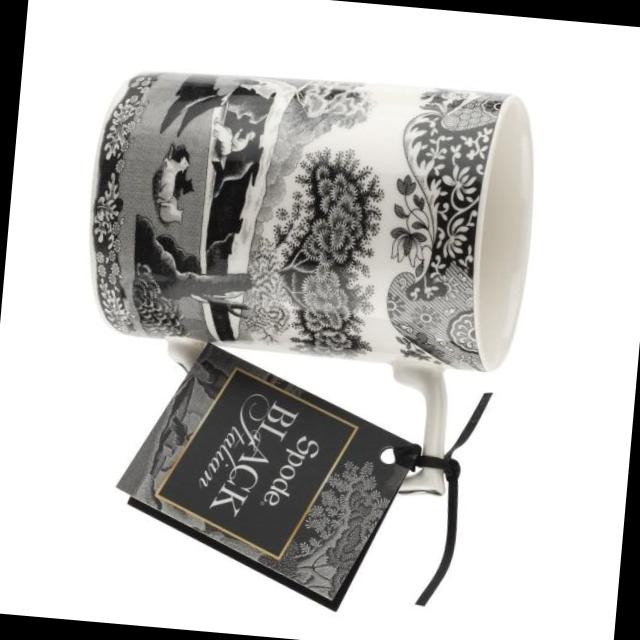Coffee Mug: (67, 53, 545, 505)
